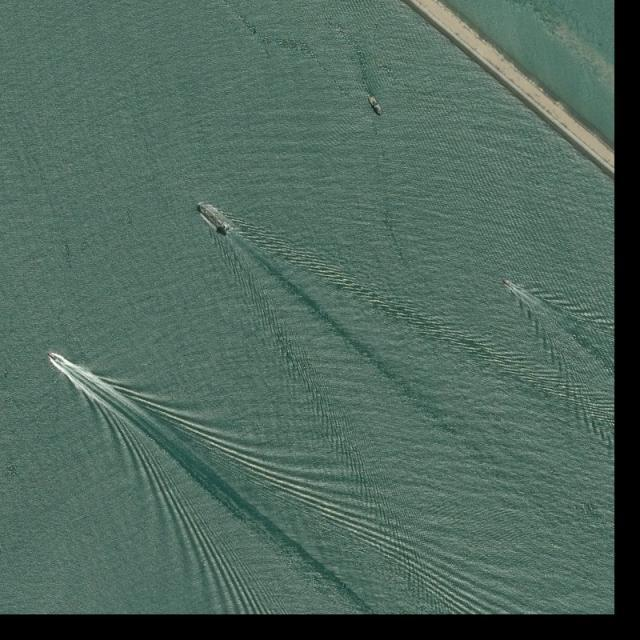ship: (196, 202, 232, 234), (368, 96, 385, 116), (502, 279, 512, 287), (48, 353, 58, 361)
